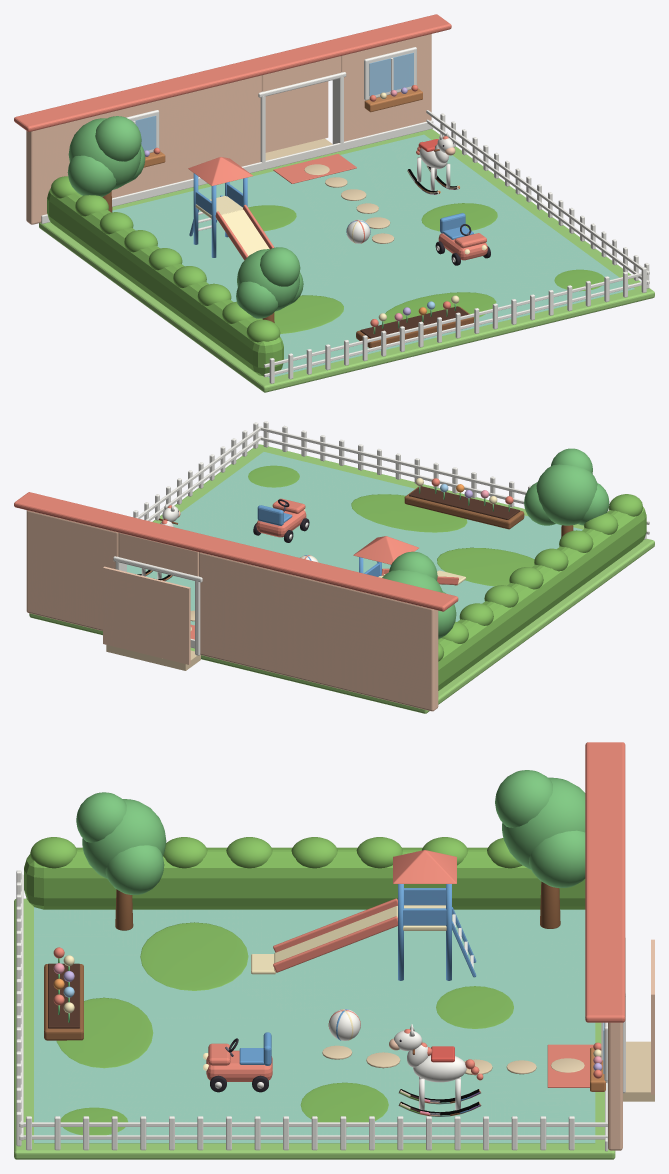
Rendered from room_lawn.glb.
3 views of the same model, one above another, from view 1: azimuth 30°, elevation 25°; view 2: azimuth 150°, elevation 25°; view 3: azimuth 270°, elevation 25° (orthographic). The views are drawn at different scales.
Visible parts, largest first — view 1: NAV_floor, house_wall_0, floor, hedge, house_eave, fence_posts, house_wall_1, fence_rails, doorway_N_view, house_skirting, floor_patch_0, oak_back_leaves_0 (+29 smaller); view 2: house_wall_0, NAV_floor, house_wall_1, house_eave, hedge, doorway_N_view, floor, fence_rails, tree_leaves_0, fence_posts, floor_patch_2, floor_patch_0 (+23 smaller); view 3: NAV_floor, hedge, floor, house_eave, fence_posts, floor_patch_0, fence_rails, floor_patch_2, oak_back_leaves_0, tree_leaves_0, floor_patch_1, floor_patch_3 (+29 smaller).
Boxes of the visible parts, <box> form: NAV_floor: <box>112,134,634,377</box>; house_wall_0: <box>26,75,261,224</box>; floor: <box>39,129,654,392</box>; hedge: <box>47,189,283,376</box>; house_eave: <box>14,14,451,131</box>; fence_posts: <box>269,113,649,383</box>; house_wall_1: <box>341,34,431,141</box>; fence_rails: <box>264,110,649,377</box>; doorway_N_view: <box>265,81,328,152</box>; house_skirting: <box>41,120,433,223</box>; floor_patch_0: <box>256,295,343,333</box>; oak_back_leaves_0: <box>68,118,141,189</box>; house_wall_0: <box>199,552,438,711</box>; NAV_floor: <box>127,452,582,625</box>; house_wall_1: <box>26,510,118,630</box>; house_eave: <box>14,492,458,611</box>; hedge: <box>438,507,646,690</box>; doorway_N_view: <box>103,566,190,664</box>; floor: <box>29,444,654,713</box>; fence_rails: <box>135,426,649,534</box>; tree_leaves_0: <box>536,464,597,525</box>; fence_posts: <box>133,421,646,539</box>; floor_patch_2: <box>351,494,467,532</box>; floor_patch_0: <box>437,547,534,586</box>; NAV_floor: <box>34,907,595,1143</box>; hedge: <box>24,847,585,909</box>; floor: <box>14,898,615,1159</box>; house_eave: <box>585,742,625,1022</box>; fence_posts: <box>16,870,574,1150</box>; floor_patch_0: <box>140,922,248,990</box>; fence_rails: <box>19,874,607,1140</box>; floor_patch_2: <box>56,997,153,1068</box>; oak_back_leaves_0: <box>502,777,585,869</box>; tree_leaves_0: <box>82,799,166,879</box>; floor_patch_1: <box>300,1082,388,1127</box>; floor_patch_3: <box>436,986,513,1028</box>.
Bounding box in the file's own units: 6.5 × 1.8 × 6.39.
Materials: 2 (2 with a texture image).
